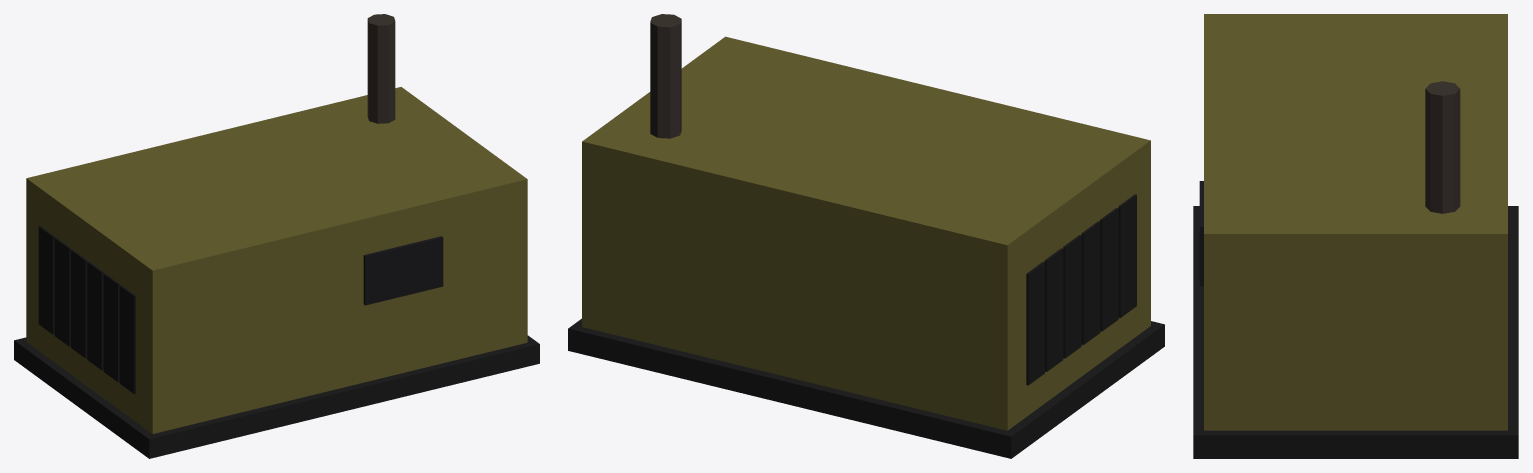
Rendered from generator.glb.
3 views of the same model, side by side, from view 1: azimuth 30°, elevation 25°; view 2: azimuth 150°, elevation 25°; view 3: azimuth 270°, elevation 25° (orthographic). The views are drawn at different scales.
Visible parts, largest first — view 1: generator; view 2: generator; view 3: generator.
Part boxes in pixels (x1,y1,x2,y2): generator: (14,14,539,458); generator: (568,14,1164,458); generator: (1193,14,1518,458).
Size of the model in its own units: 2.5 by 1.72 by 1.5.
